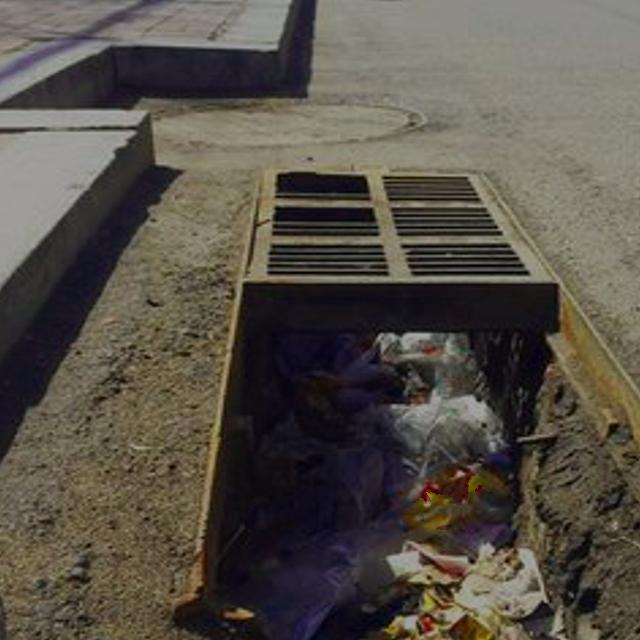lose: (115, 285, 640, 640)
